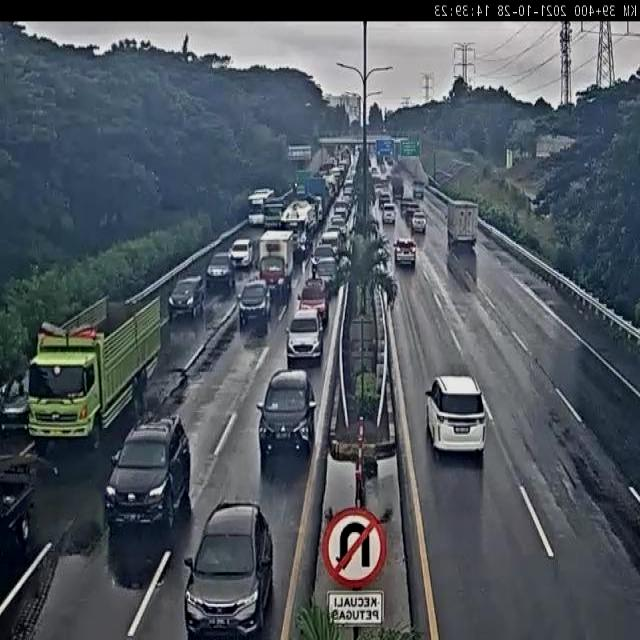Car: (184, 502, 274, 638), (105, 412, 192, 533), (258, 367, 320, 466), (426, 374, 486, 454), (285, 306, 324, 365), (235, 278, 272, 335), (168, 274, 206, 320), (299, 276, 330, 325), (206, 251, 235, 289), (314, 256, 338, 295), (310, 244, 337, 274), (228, 238, 254, 269), (337, 196, 357, 234), (247, 193, 268, 227), (394, 237, 417, 267), (372, 154, 394, 184), (320, 228, 342, 252), (323, 174, 338, 200), (330, 211, 348, 232), (411, 212, 427, 233), (329, 167, 343, 190), (341, 187, 355, 210), (400, 196, 416, 216), (378, 191, 392, 210), (339, 151, 351, 173), (404, 207, 417, 226), (369, 152, 380, 174), (319, 162, 335, 177), (374, 178, 387, 196), (344, 178, 354, 196), (327, 156, 337, 170), (384, 155, 394, 168), (354, 146, 362, 160)
Truck: (25, 308, 156, 452), (0, 459, 42, 548), (258, 228, 298, 296), (0, 372, 31, 434), (281, 200, 316, 242), (447, 199, 478, 246), (262, 191, 294, 228), (303, 176, 329, 216), (296, 170, 313, 190), (391, 176, 404, 198), (394, 138, 408, 157), (413, 180, 425, 199), (392, 137, 404, 145)
Van: (383, 204, 396, 224)
